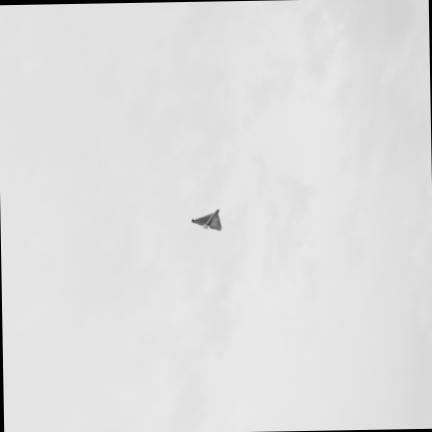Shahed: (192, 208, 221, 229)
